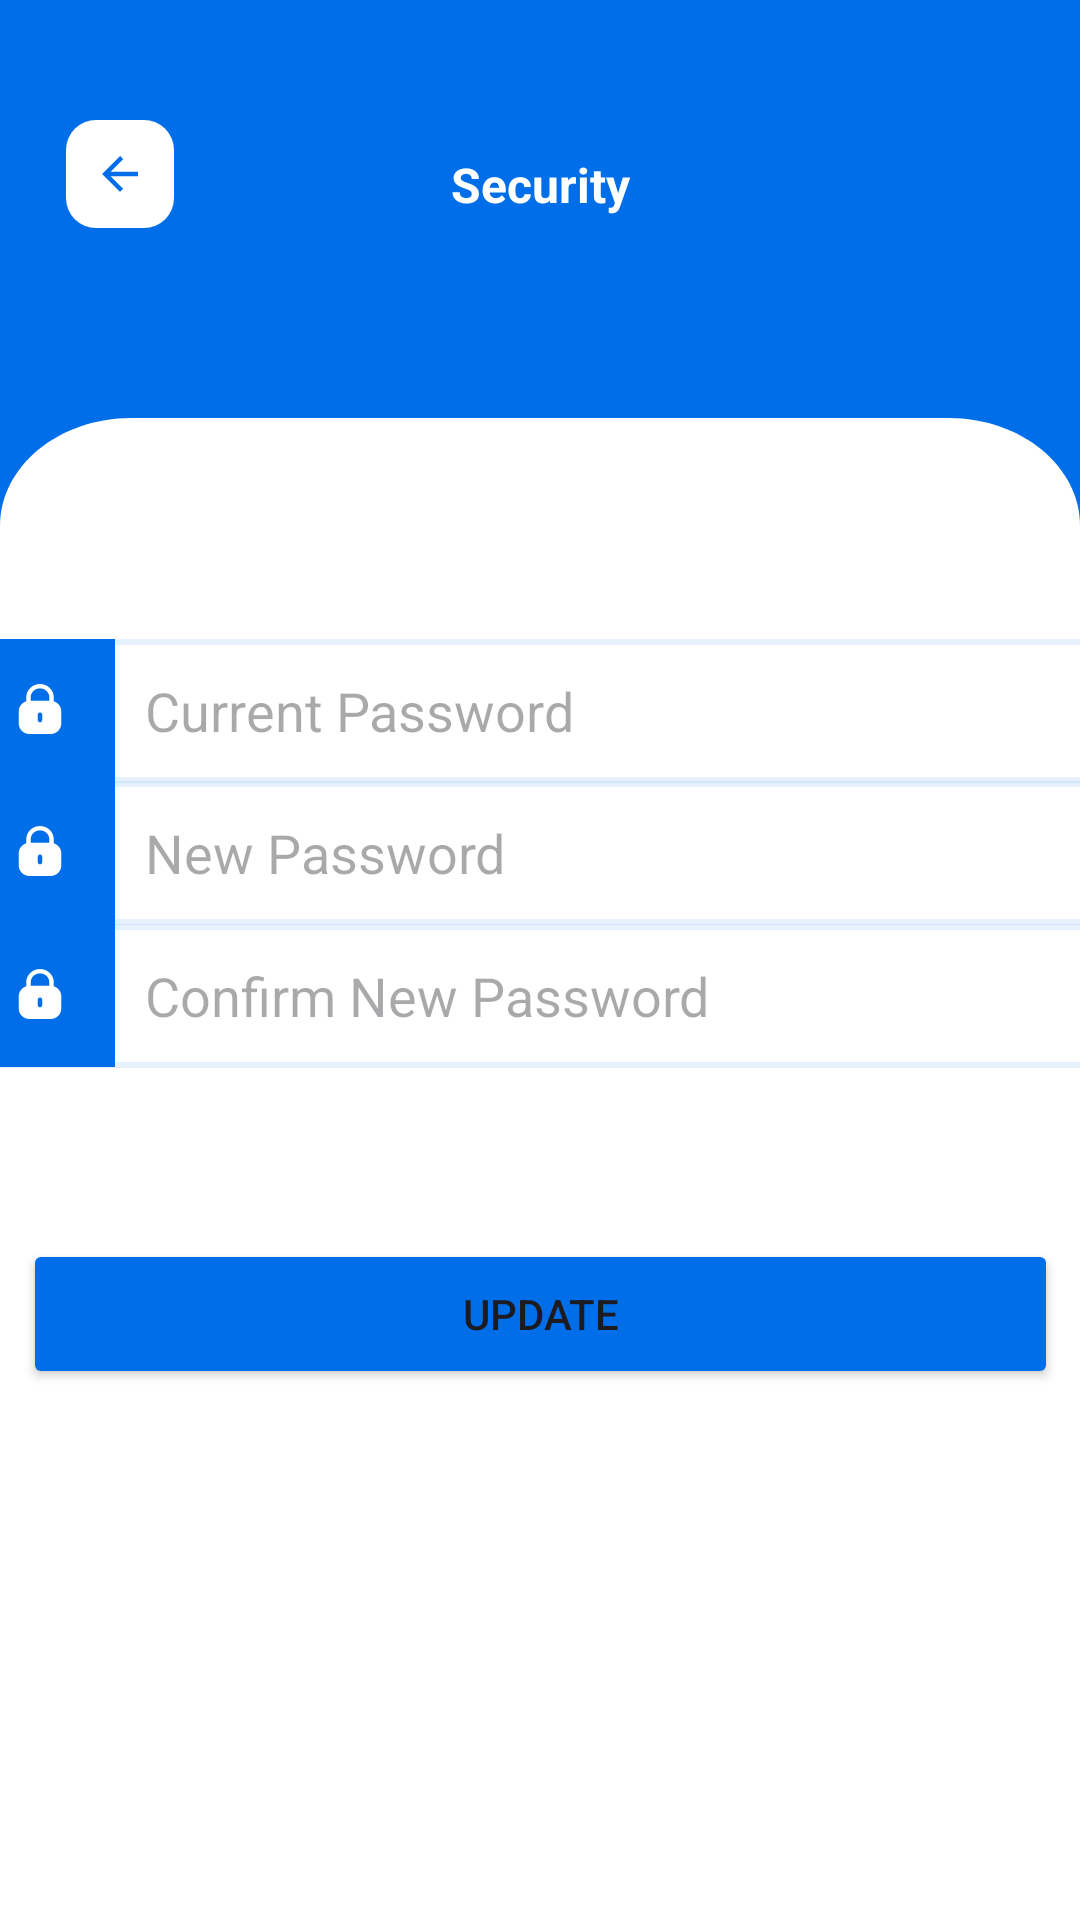

Icons on this 1080 × 1920 Android screen, each with its box as [x1, y1, x2, y2]:
bacwhite: [66, 120, 174, 228]
